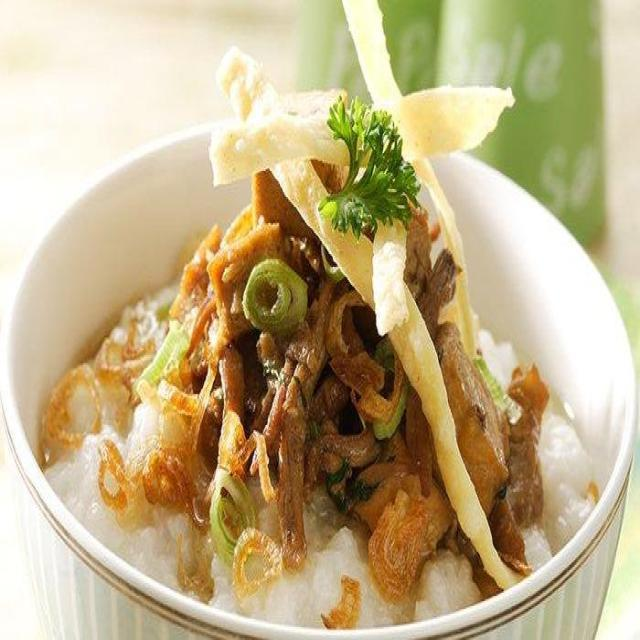bubur ayam: (36, 220, 597, 625)
mangkuk: (2, 50, 637, 632)
